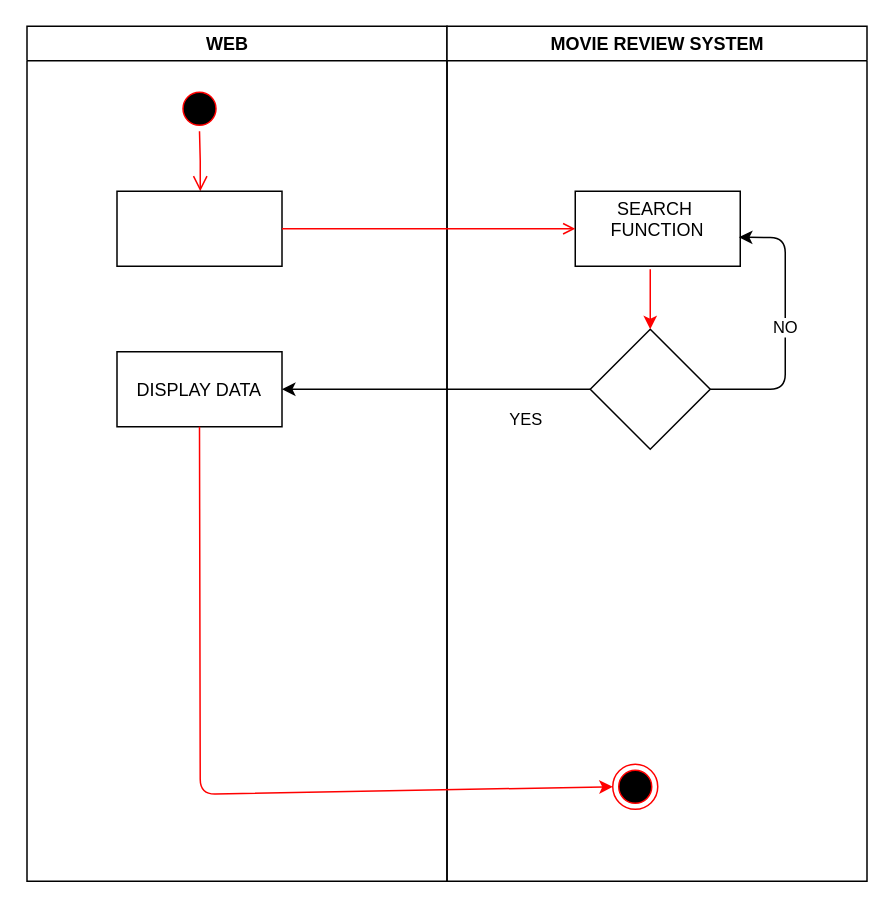
The diagram is 893 pixels wide and 908 high, and some of its shapes have lost their labels. The centre of each missing label's shape, as x and y in pixels:
"FOUND" belongs at point (649, 388).
"NOT_LOGGED_IN" belongs at point (199, 228).
